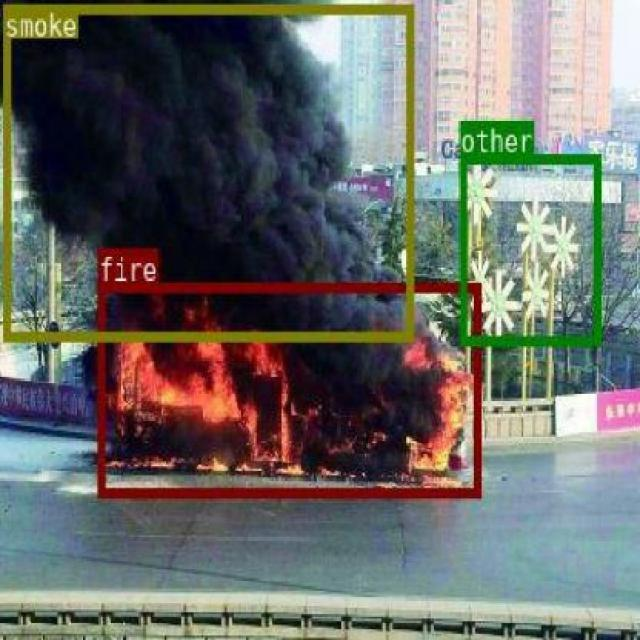Fire: (98, 280, 480, 497)
Smoke: (1, 3, 412, 340)
